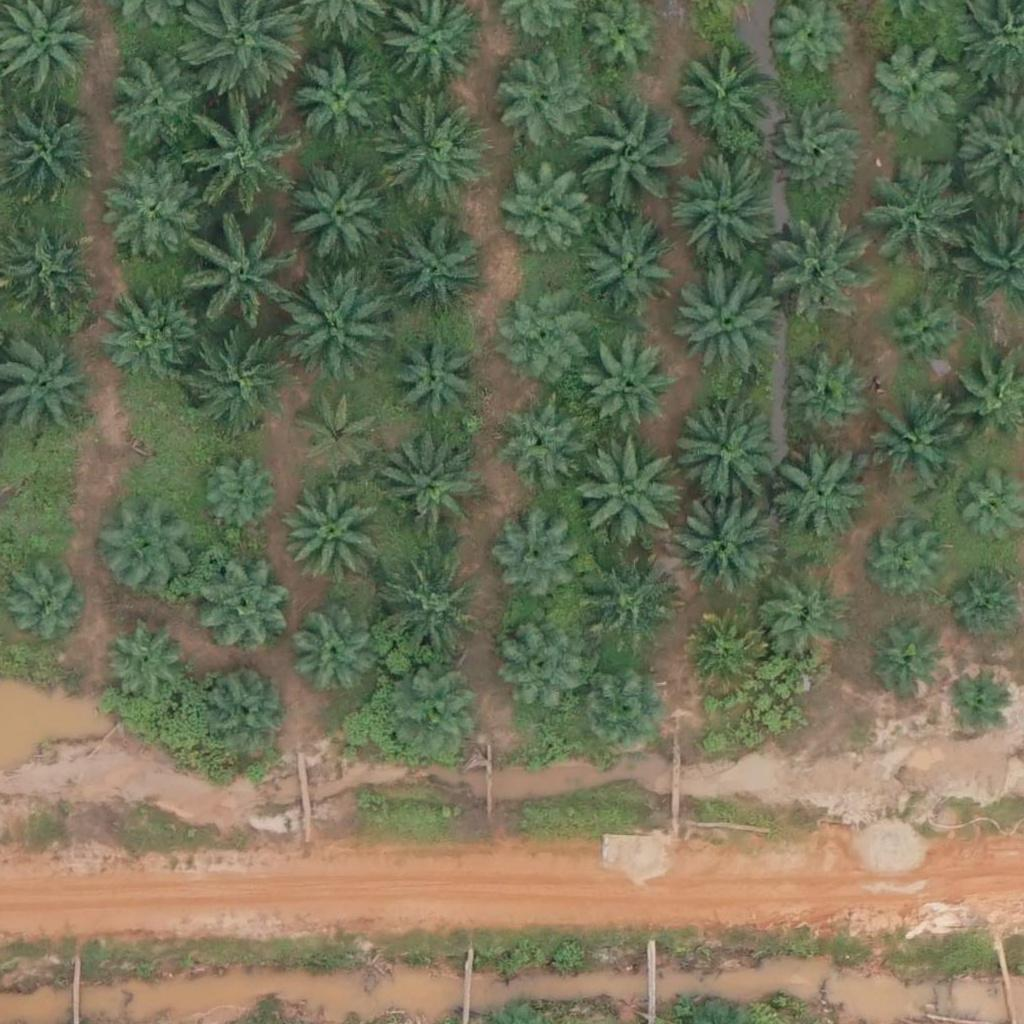Kelapa_Sawit: (665, 262, 778, 376), (670, 489, 783, 602), (662, 393, 775, 506), (375, 101, 488, 214), (285, 158, 398, 271), (668, 158, 780, 272), (570, 435, 682, 549), (762, 203, 874, 316), (566, 97, 678, 210), (370, 558, 482, 671), (283, 274, 395, 387), (186, 109, 298, 222), (186, 227, 298, 340), (181, 325, 293, 438), (859, 398, 959, 499), (859, 170, 959, 271), (769, 446, 869, 547), (672, 46, 772, 147), (575, 214, 675, 315), (577, 551, 677, 652), (496, 51, 596, 152), (379, 444, 479, 545), (292, 51, 392, 152), (283, 484, 383, 585), (94, 501, 194, 602), (109, 161, 209, 262), (96, 280, 196, 381), (866, 36, 966, 136), (764, 104, 864, 204), (388, 671, 488, 771), (192, 551, 292, 651), (113, 54, 213, 154), (386, 219, 485, 320), (677, 609, 765, 697), (880, 287, 968, 375), (587, 347, 675, 435), (489, 515, 577, 603), (203, 659, 291, 747), (500, 622, 587, 711), (298, 390, 385, 479), (785, 356, 872, 444), (762, 576, 849, 664), (578, 668, 665, 756), (490, 393, 577, 481), (499, 281, 586, 369), (502, 166, 589, 254), (393, 332, 480, 420), (197, 453, 284, 541), (295, 612, 382, 700), (103, 613, 190, 701), (871, 528, 946, 603), (869, 628, 944, 703), (942, 669, 1005, 732)
